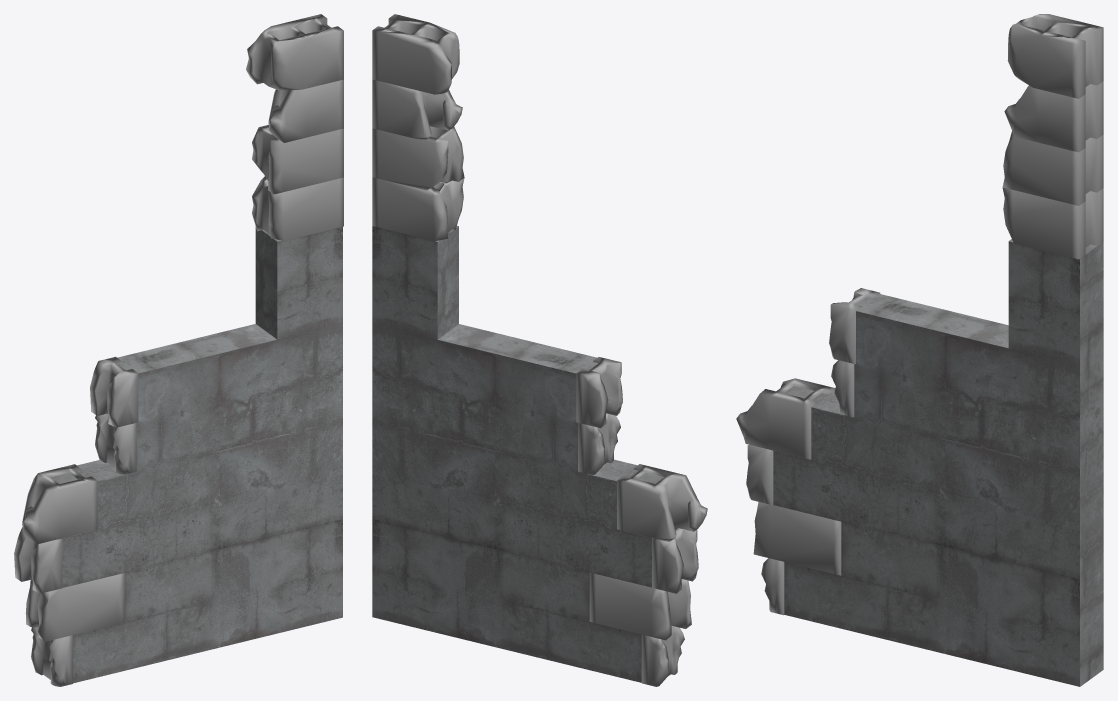
The model's file is wall_2window_01_Broken_02.fbx.
The picture shows the model from 3 angles, left to right: view 1: azimuth 30°, elevation 25°; view 2: azimuth 150°, elevation 25°; view 3: azimuth 330°, elevation 25°; orthographic projection. The views are drawn at different scales.
Parts seen in each view (by area): view 1: wall_2window_01_Broken_02; view 2: wall_2window_01_Broken_02; view 3: wall_2window_01_Broken_02.
Boxes of the visible parts, x1,y1,x2,y2 form: wall_2window_01_Broken_02: (14, 14, 343, 686); wall_2window_01_Broken_02: (372, 14, 707, 686); wall_2window_01_Broken_02: (736, 14, 1103, 686).
Size of the model in its own units: 169 by 300 by 21.38.
2 materials, 1 textured.
